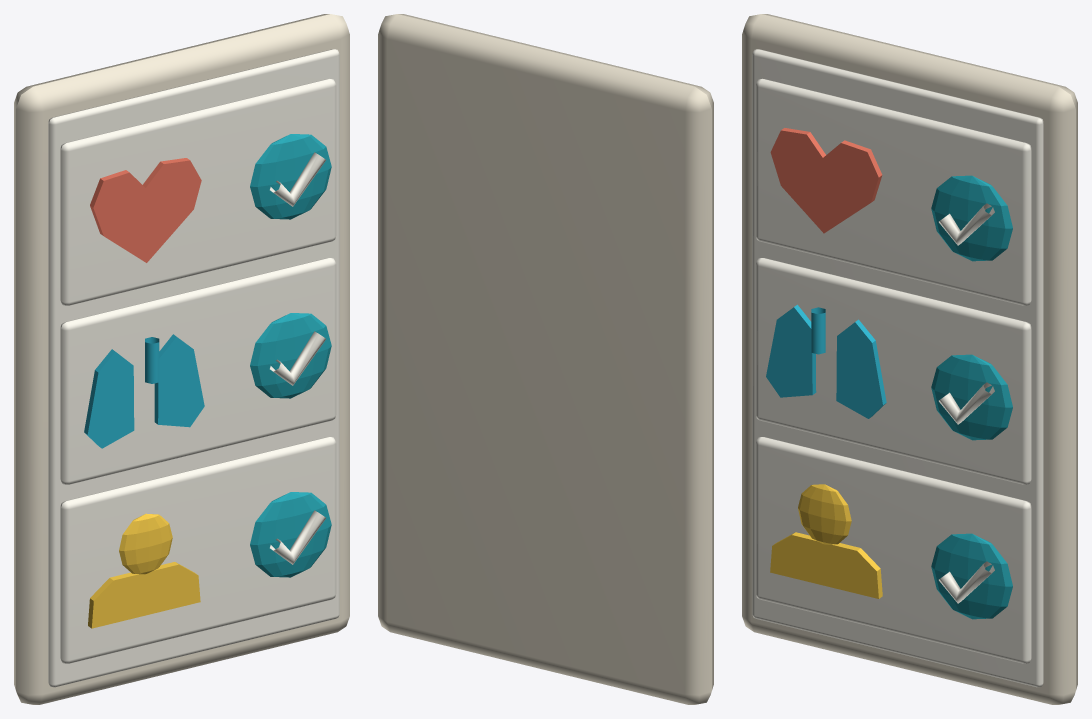
The model's file is Clinical_Art_Preparation_Checklist.glb.
3 views of the same model, side by side, from view 1: azimuth 30°, elevation 25°; view 2: azimuth 150°, elevation 25°; view 3: azimuth 330°, elevation 25° (orthographic).
Parts seen in each view (by area): view 1: Clinical_Art_Preparation_Checklist_paper, Clinical_Art_Preparation_Checklist_cream, Clinical_Art_Preparation_Checklist_teal, Clinical_Art_Preparation_Checklist_blue, Clinical_Art_Preparation_Checklist_coral, Clinical_Art_Preparation_Checklist_gold; view 2: Clinical_Art_Preparation_Checklist_cream; view 3: Clinical_Art_Preparation_Checklist_paper, Clinical_Art_Preparation_Checklist_cream, Clinical_Art_Preparation_Checklist_teal, Clinical_Art_Preparation_Checklist_blue, Clinical_Art_Preparation_Checklist_coral, Clinical_Art_Preparation_Checklist_gold.
Part boxes in pixels (x1=…): Clinical_Art_Preparation_Checklist_paper: x1=48, y1=49, x2=339, y2=687; Clinical_Art_Preparation_Checklist_cream: x1=14, y1=14, x2=349, y2=704; Clinical_Art_Preparation_Checklist_teal: x1=250, y1=134, x2=331, y2=577; Clinical_Art_Preparation_Checklist_blue: x1=84, y1=334, x2=204, y2=448; Clinical_Art_Preparation_Checklist_coral: x1=90, y1=158, x2=201, y2=262; Clinical_Art_Preparation_Checklist_gold: x1=88, y1=513, x2=200, y2=628; Clinical_Art_Preparation_Checklist_cream: x1=378, y1=14, x2=713, y2=704; Clinical_Art_Preparation_Checklist_paper: x1=752, y1=49, x2=1043, y2=687; Clinical_Art_Preparation_Checklist_cream: x1=742, y1=14, x2=1077, y2=704; Clinical_Art_Preparation_Checklist_teal: x1=931, y1=175, x2=1012, y2=619; Clinical_Art_Preparation_Checklist_blue: x1=766, y1=304, x2=886, y2=418; Clinical_Art_Preparation_Checklist_coral: x1=770, y1=128, x2=882, y2=233; Clinical_Art_Preparation_Checklist_gold: x1=770, y1=484, x2=882, y2=598.
Bounding box in the file's own units: 0.64 × 1.14 × 0.1481.
